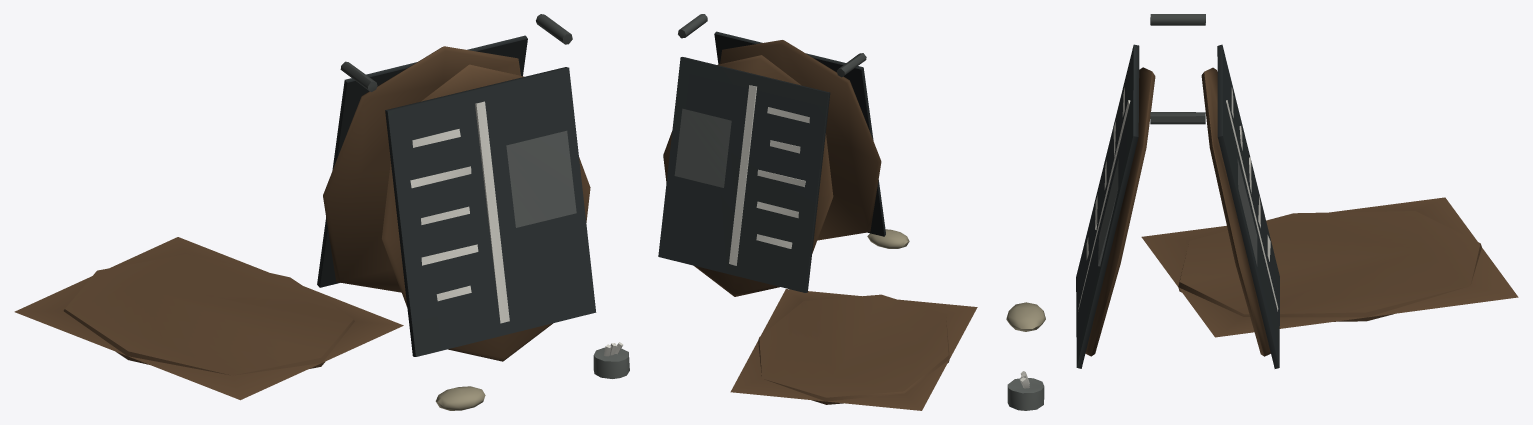
File: shift_board_b_lod1.glb
3 renders of one model, left to right at view 1: azimuth 30°, elevation 25°; view 2: azimuth 150°, elevation 25°; view 3: azimuth 270°, elevation 25°, orthographic. The views are drawn at different scales.
Visible parts, largest first — view 1: Surface.001; view 2: Surface.001; view 3: Surface.001.
Boxes of the visible parts, x1,y1,x2,y2 form: Surface.001: (14,14,629,410); Surface.001: (658,14,977,410); Surface.001: (1006,14,1518,410).
Bounding box in the file's own units: 1.8 × 1.19 × 1.85.
